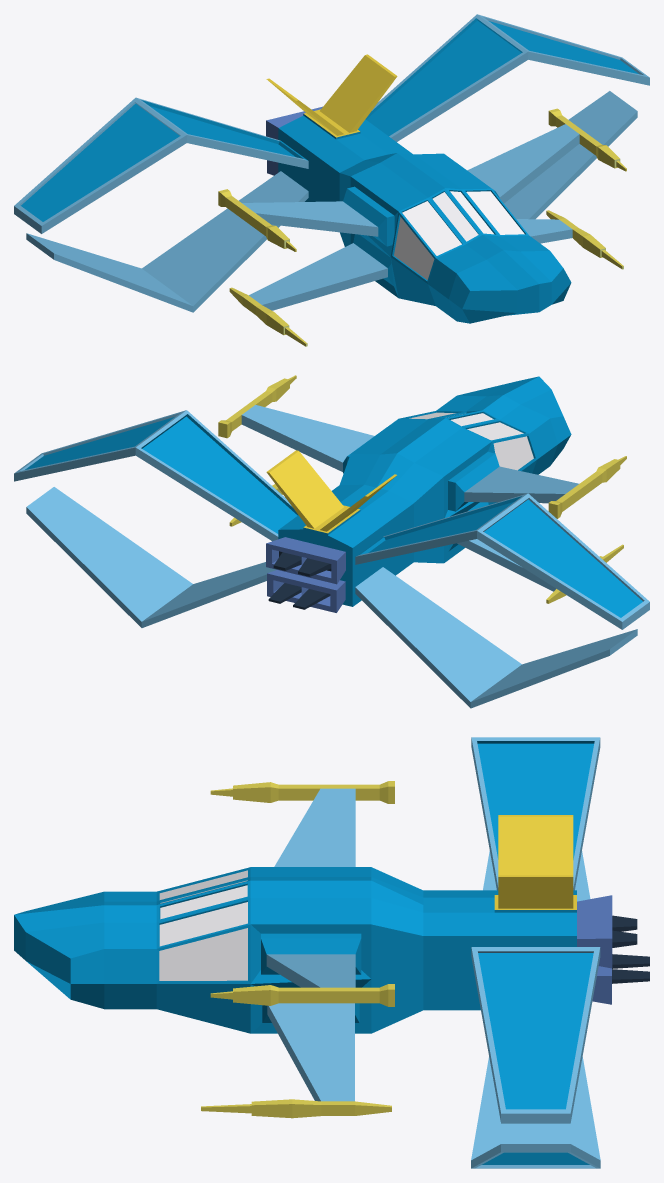
Rendered from plain2.fbx.
3 renders of one model, top to bottom at view 1: azimuth 30°, elevation 25°; view 2: azimuth 150°, elevation 25°; view 3: azimuth 270°, elevation 25°, orthographic. The views are drawn at different scales.
Visible parts, largest first — view 1: Cube; view 2: Cube; view 3: Cube.
Part boxes in pixels (left/top/right/bottom): Cube: left=14, top=14, right=649, bottom=346; Cube: left=14, top=375, right=649, bottom=708; Cube: left=14, top=737, right=649, bottom=1168.
Size of the model in its own units: 1466 by 413 by 1054.
1 material, 1 textured.
